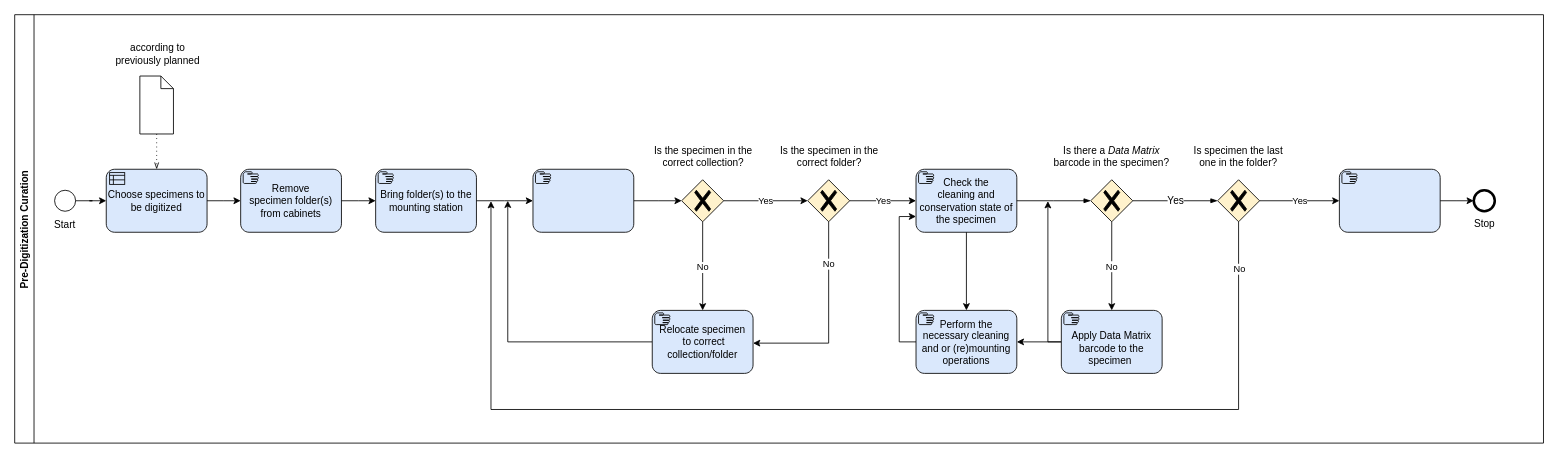
The diagram is 1558 pixels wide and 458 high, and some of its shapes have lost their labels. Here are the shapes that lost their labels. From the top down, the centre of each, then its label:
At (583,200): "Take a specimen".
At (1389,200): "Bring folder(s) to imaging station".
